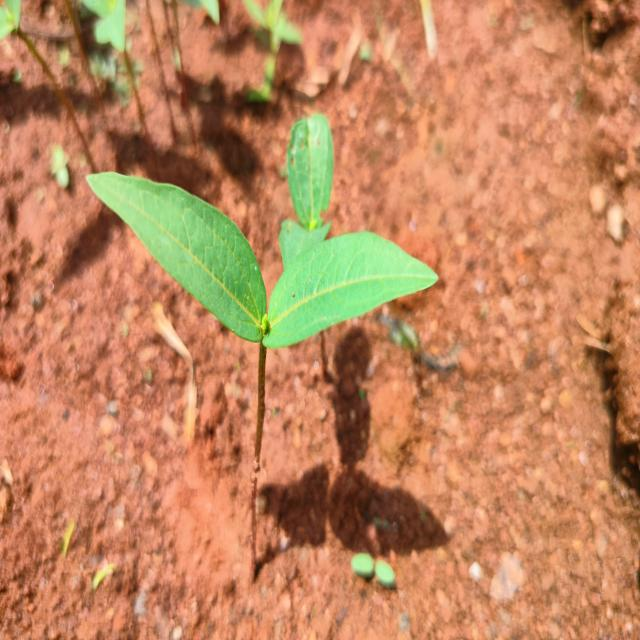Black gram_healthy: (85, 164, 268, 344), (264, 230, 445, 347), (286, 105, 334, 231)
